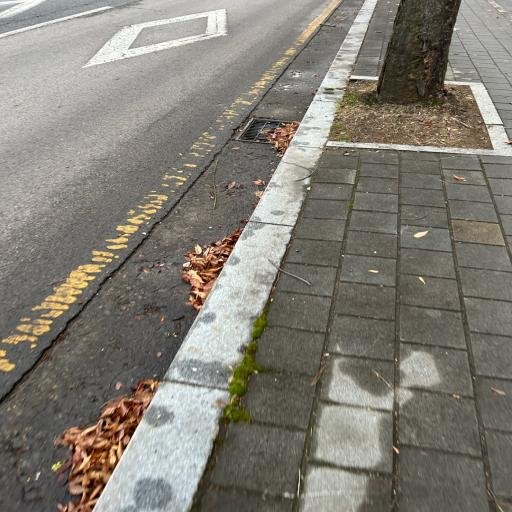debris: (264, 121, 297, 144)
drain: (238, 117, 298, 144)
